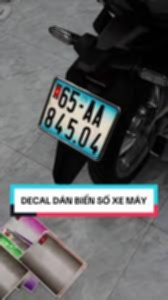Bien-so: (35, 76, 125, 166)
